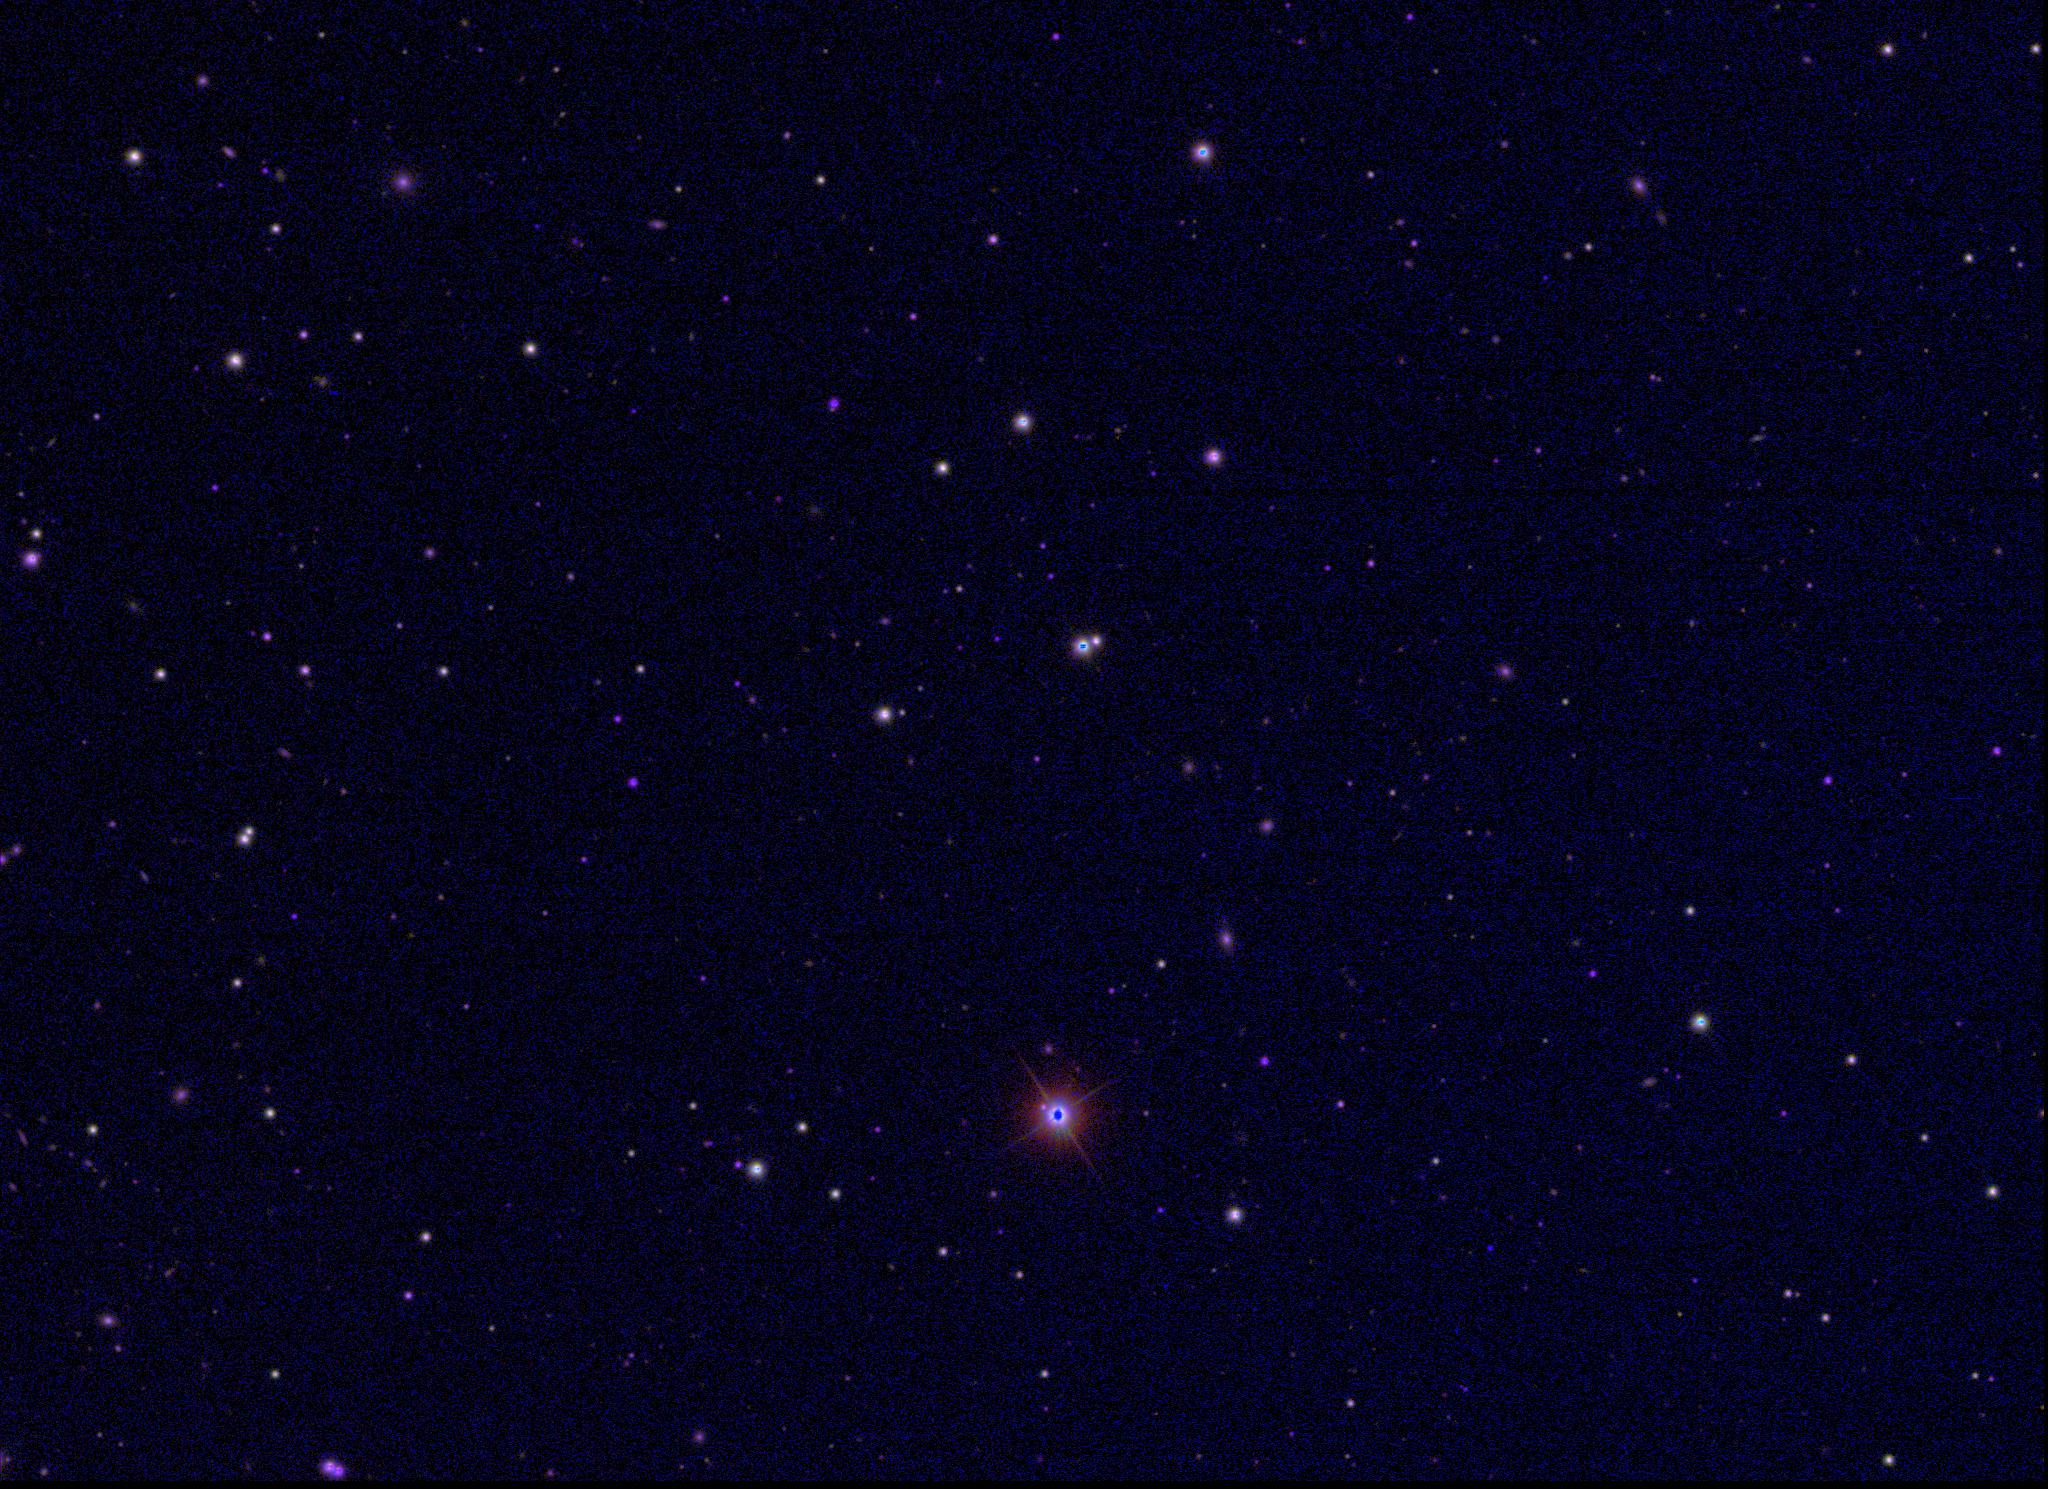L: (1482, 1242, 1496, 1257)
